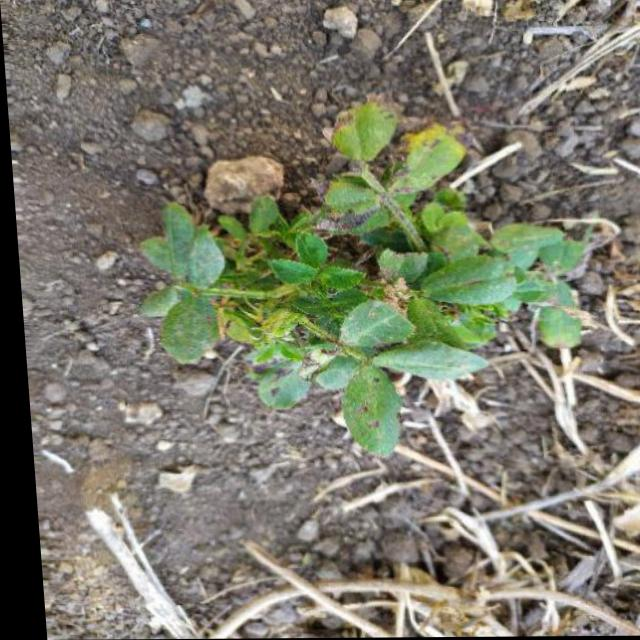weed: (113, 97, 608, 449)
